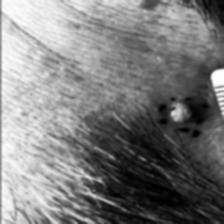Toxin: (166, 100, 196, 126)
